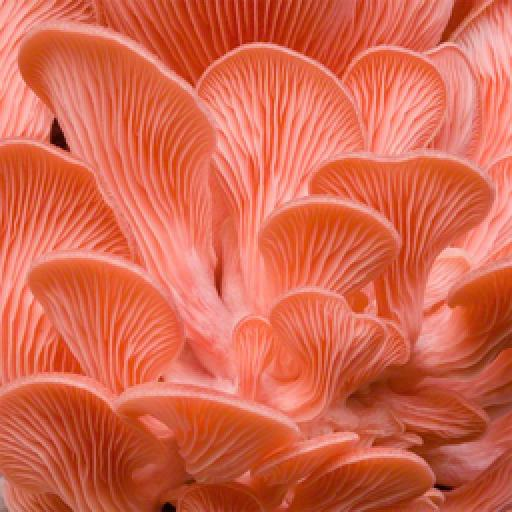mushrooms: (16, 24, 258, 362), (188, 42, 354, 338), (306, 152, 496, 348), (0, 138, 134, 362), (20, 250, 190, 414), (228, 286, 398, 440), (0, 374, 184, 510), (110, 382, 302, 510), (328, 44, 450, 222), (254, 196, 406, 334), (290, 450, 440, 510)
